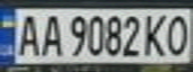0: (84, 11, 106, 57)
2: (121, 11, 145, 57)
8: (103, 11, 127, 57)
9: (63, 11, 87, 57)
A: (12, 10, 42, 57), (36, 11, 66, 57)
K: (142, 11, 169, 57)
O: (163, 11, 193, 56)
